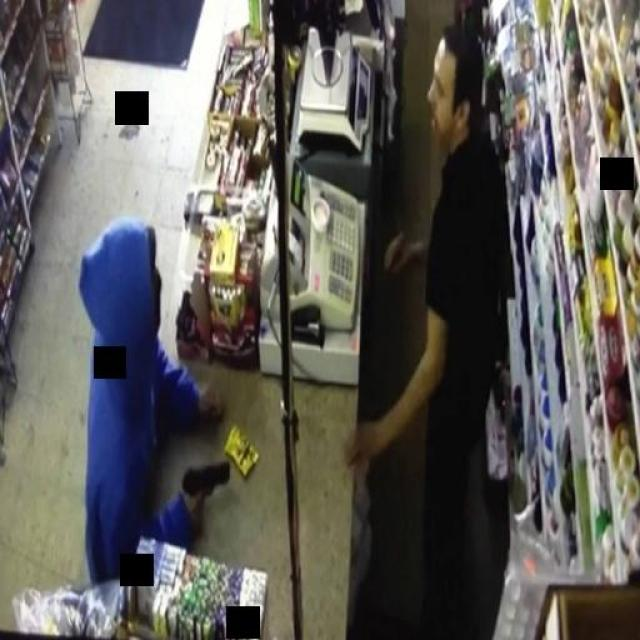gun: (175, 450, 233, 524)
